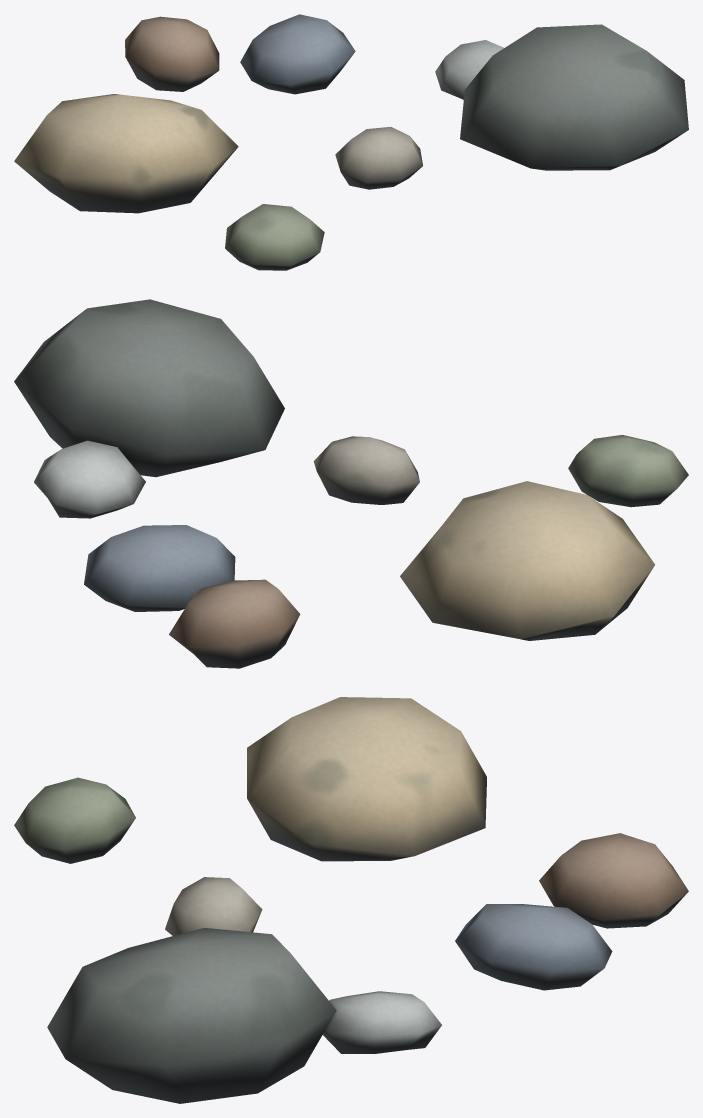
The model's file is Piedras_Fondo.fbx.
3 views of the same model, one above another, from view 1: azimuth 30°, elevation 25°; view 2: azimuth 150°, elevation 25°; view 3: azimuth 270°, elevation 25° (orthographic). The views are drawn at different scales.
Visible parts, largest first — view 1: Malla; view 2: Malla; view 3: Malla.
Part boxes in pixels (box(x1,y1,x2,y2)): Malla: box(14, 14, 688, 270); Malla: box(14, 299, 688, 668); Malla: box(14, 697, 688, 1103).
Bounding box in the file's own units: 1.45 × 0.2218 × 1.17.
1 material, 1 textured.
